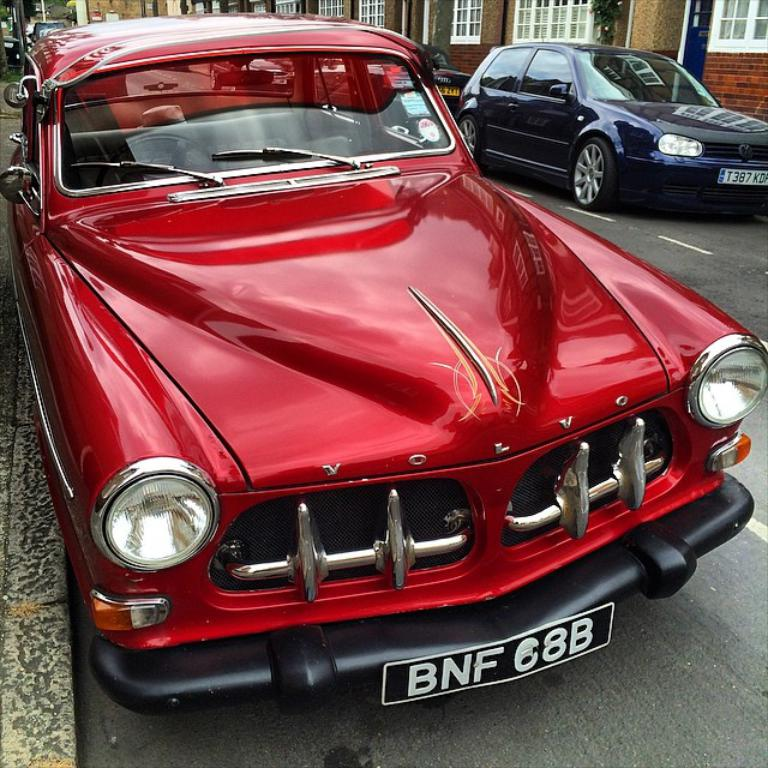Car: (0, 0, 765, 717), (450, 36, 763, 212), (426, 50, 469, 118), (25, 16, 63, 38)
